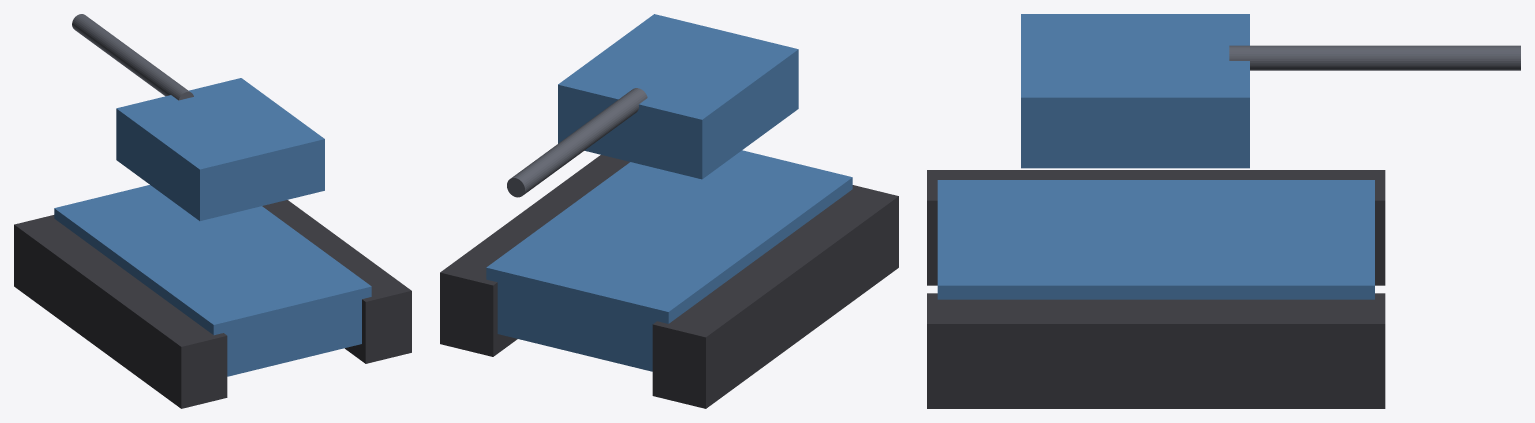
The model's file is AL_RefractionTank.fbx.
3 renders of one model, left to right at view 1: azimuth 30°, elevation 25°; view 2: azimuth 150°, elevation 25°; view 3: azimuth 270°, elevation 25°, orthographic. The views are drawn at different scales.
Visible parts, largest first — view 1: Cube, Cube.003, Cube.001, Cube.002, Cylinder; view 2: Cube, Cube.003, Cube.001, Cube.002, Cylinder; view 3: Cube, Cube.002, Cube.003, Cylinder, Cube.001.
Part boxes in pixels (x1,y1,x2,y2): Cube: (54, 185, 371, 376); Cube.003: (116, 78, 324, 220); Cube.001: (14, 215, 227, 408); Cube.002: (262, 200, 411, 363); Cylinder: (72, 14, 193, 100); Cube: (486, 150, 852, 371); Cube.003: (558, 14, 798, 179); Cube.001: (652, 185, 898, 408); Cube.002: (440, 155, 629, 356); Cylinder: (507, 88, 647, 197); Cube: (937, 180, 1374, 299); Cube.002: (927, 293, 1385, 408); Cube.003: (1021, 14, 1249, 168); Cylinder: (1229, 45, 1520, 70); Cube.001: (927, 170, 1385, 285).
Size of the model in its own units: 350 by 302 by 570.
